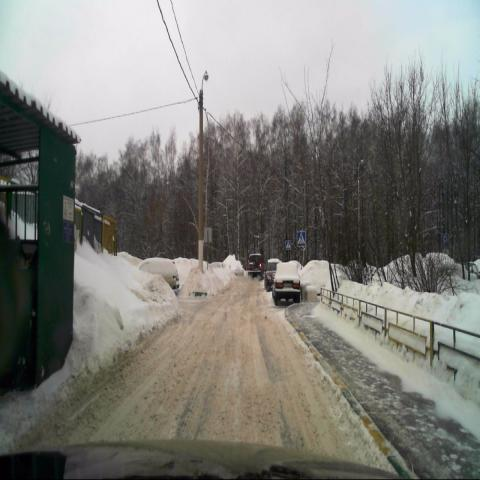5_19_1: (296, 231, 306, 247)
6_4: (443, 234, 450, 250)
